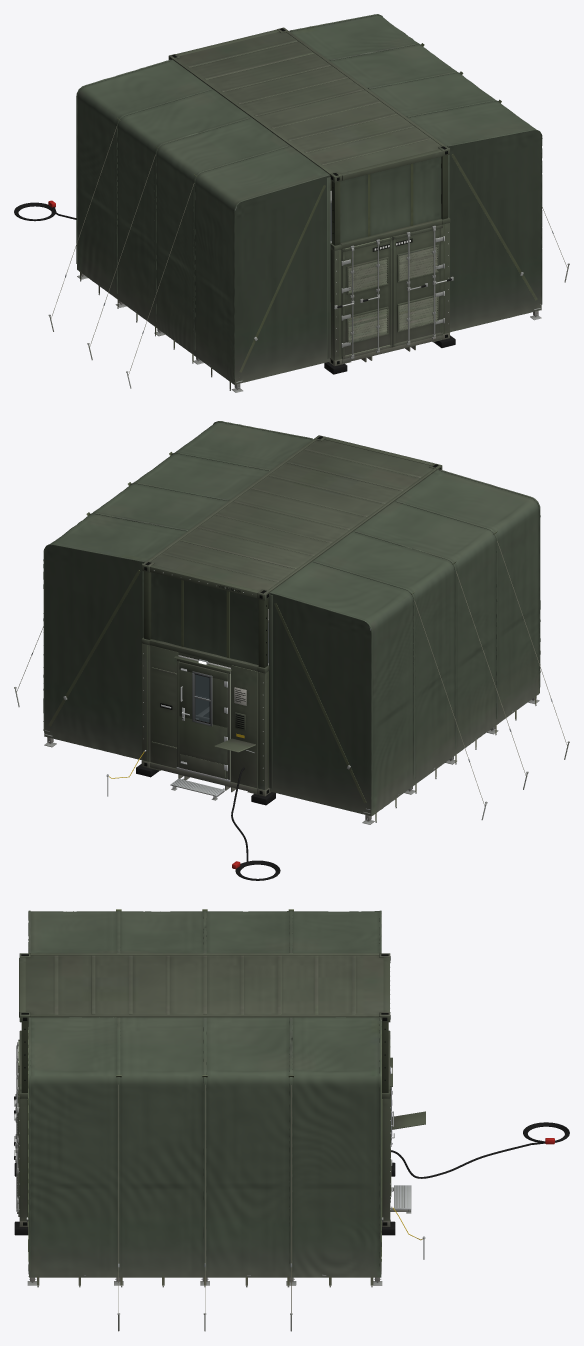
The model's file is ehmecc-ar.glb.
3 renders of one model, top to bottom at view 1: azimuth 30°, elevation 25°; view 2: azimuth 150°, elevation 25°; view 3: azimuth 270°, elevation 25°, orthographic. The views are drawn at different scales.
Parts seen in each view (by area): view 1: EHMECC_expansion_L, EHMECC_expansion_R, EHMECC_roof, EHMECC_core, EHMECC_roof_panels, EHMECC_site_kit; view 2: EHMECC_expansion_L, EHMECC_expansion_R, EHMECC_roof, EHMECC_core, EHMECC_roof_panels, EHMECC_site_kit; view 3: EHMECC_expansion_R, EHMECC_roof, EHMECC_expansion_L, EHMECC_core, EHMECC_site_kit.
Part boxes in pixels (left/top/right/bottom): EHMECC_expansion_L: left=76, top=59, right=330, bottom=392; EHMECC_expansion_R: left=289, top=14, right=542, bottom=332; EHMECC_roof: left=168, top=27, right=449, bottom=245; EHMECC_core: left=324, top=217, right=455, bottom=374; EHMECC_roof_panels: left=340, top=157, right=441, bottom=242; EHMECC_site_kit: left=14, top=43, right=569, bottom=388; EHMECC_expansion_L: left=269, top=469, right=540, bottom=824; EHMECC_expansion_R: left=43, top=421, right=313, bottom=760; EHMECC_roof: left=141, top=435, right=442, bottom=667; EHMECC_core: left=136, top=637, right=275, bottom=805; EHMECC_roof_panels: left=151, top=572, right=258, bottom=664; EHMECC_site_kit: left=14, top=452, right=569, bottom=880; EHMECC_expansion_R: left=26, top=1017, right=383, bottom=1287; EHMECC_roof: left=19, top=953, right=390, bottom=1092; EHMECC_expansion_L: left=28, top=910, right=381, bottom=953; EHMECC_core: left=14, top=1030, right=425, bottom=1235; EHMECC_site_kit: left=116, top=909, right=569, bottom=1331.
Size of the model in its own units: 9.34 by 4.23 by 9.09.
Materials: 23 (7 with a texture image).
